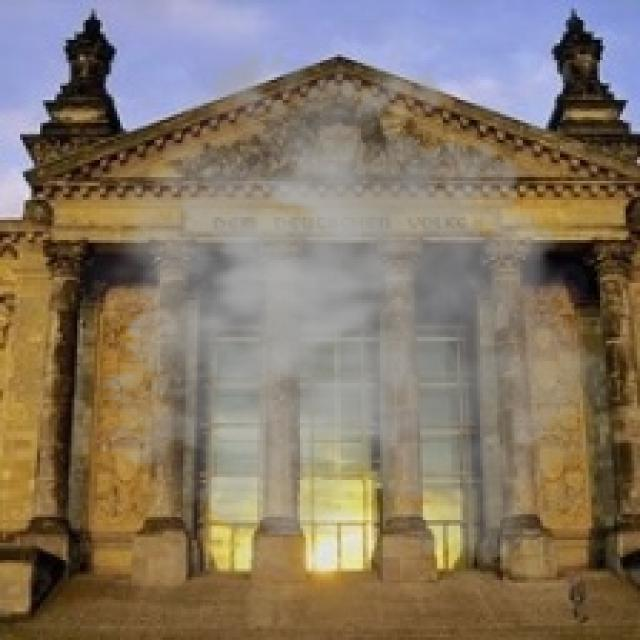smoke: (57, 32, 623, 574)
